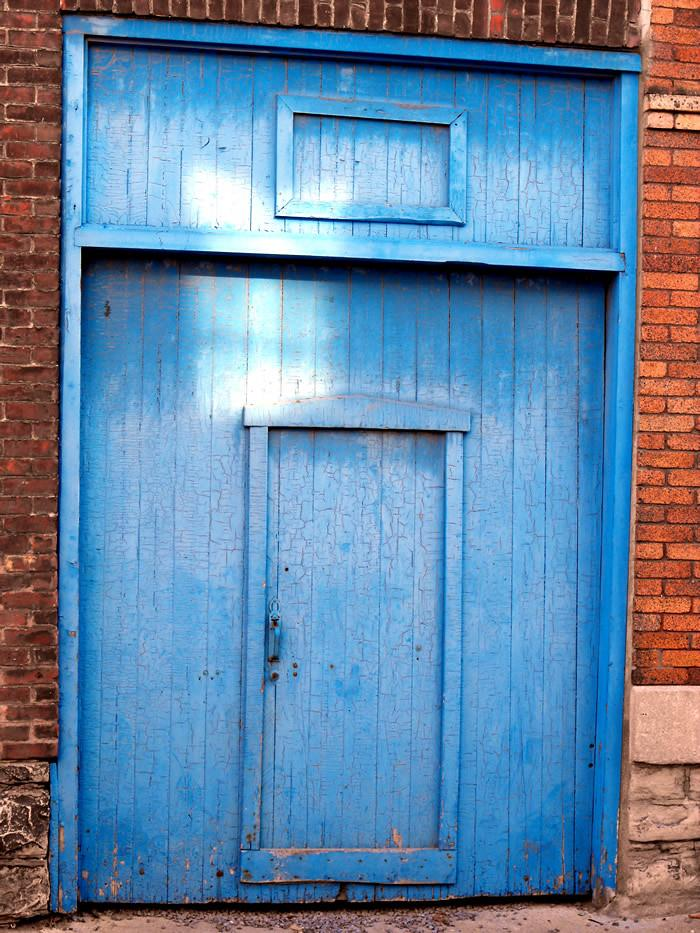door: (52, 18, 639, 913)
